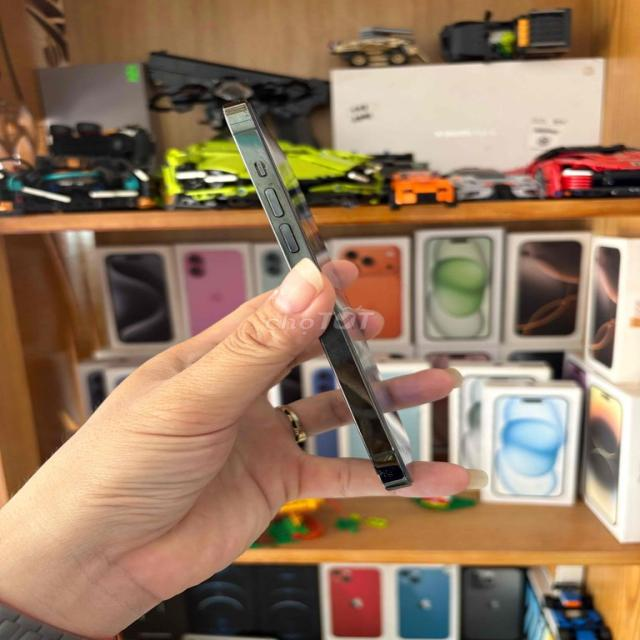scratch: (224, 106, 278, 186), (373, 460, 403, 482)
